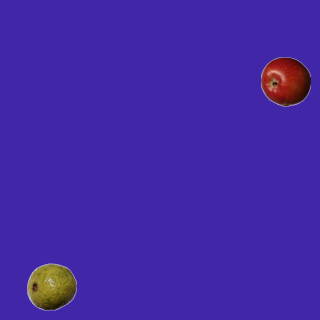Apple Braeburn: (260, 56, 310, 106)
Guava: (26, 261, 76, 311)
